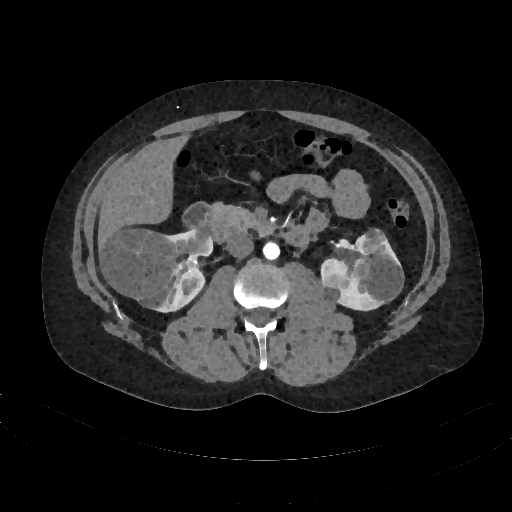Lesion: (98, 224, 176, 304)
